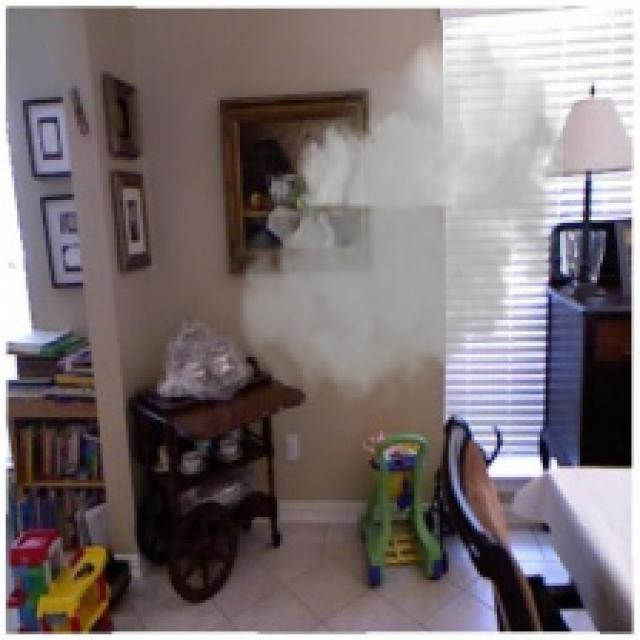Smoke: (232, 17, 577, 417)
